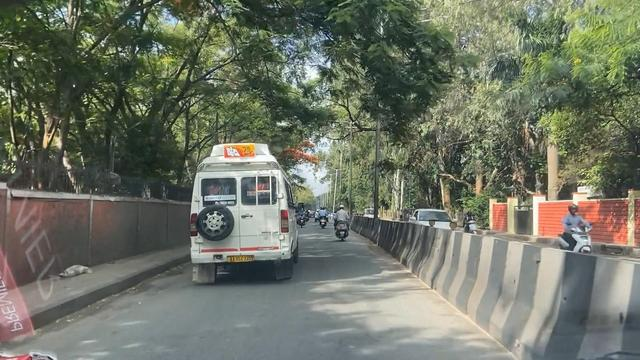HMV: (188, 145, 305, 287)
LMV: (324, 204, 356, 246)
